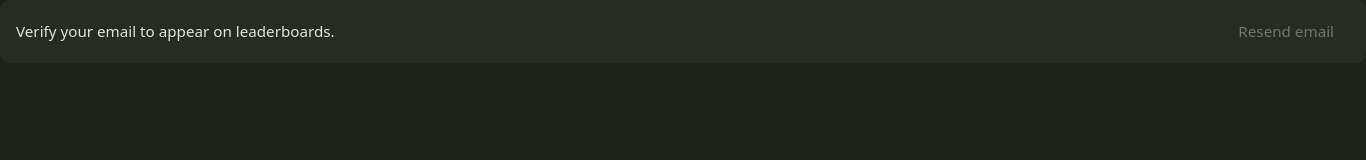
Test: VerifyEmailBanner › shows the rate limit message on 429
Click the button "Resend email" at (1286, 31), box [1222,12,1350,51]
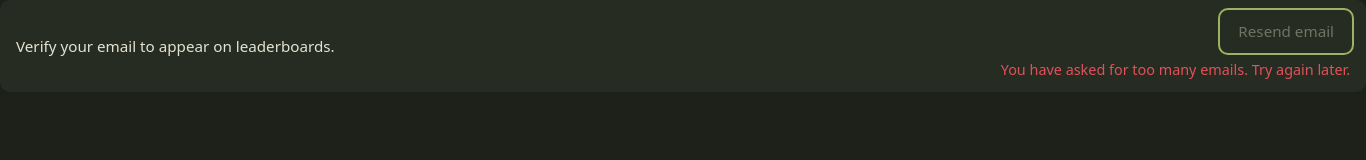
Result: the message reads "You have asked for too many emails. Try again later." at [1001,60,1350,79]
